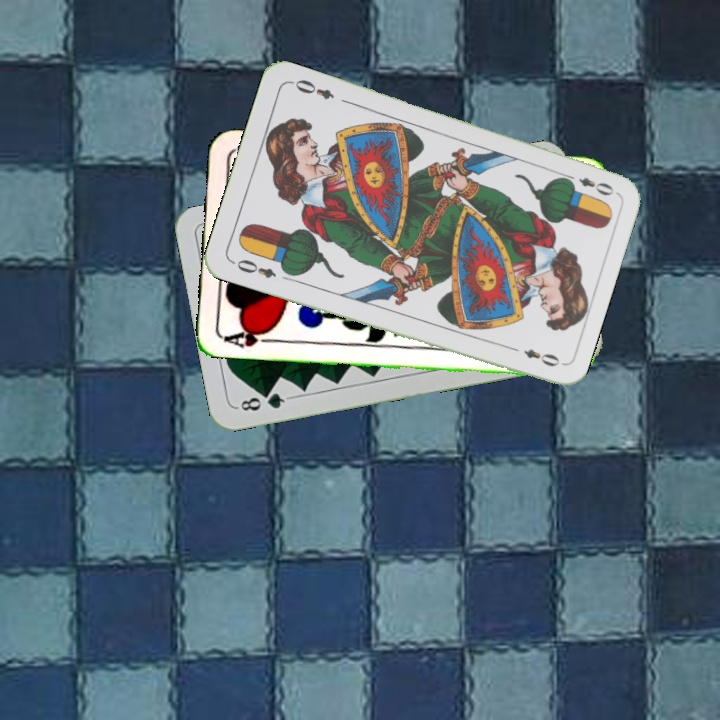EO: (560, 169, 617, 198), (228, 255, 279, 281)
G8: (233, 388, 292, 414)
HA: (220, 323, 280, 351)
